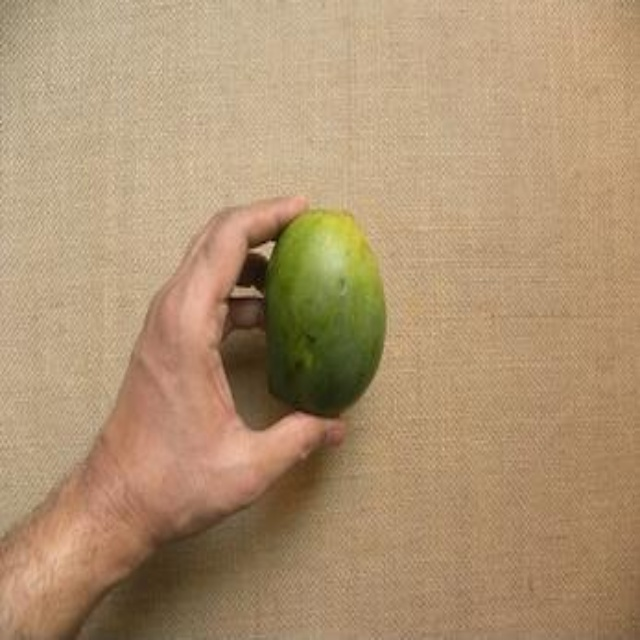mango: (268, 206, 383, 419)
